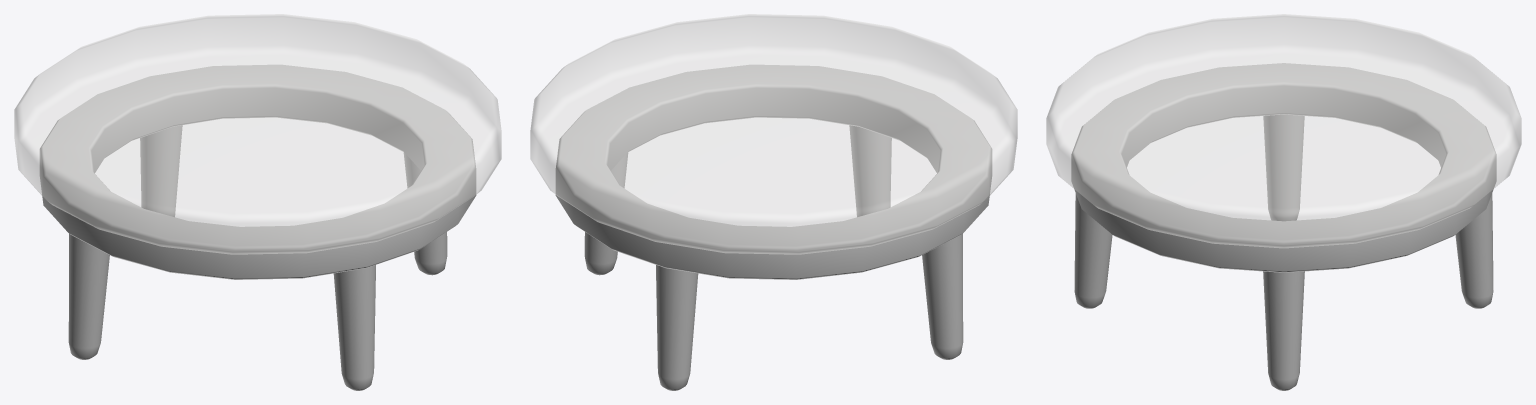
File: Table_24.fbx
3 views of the same model, side by side, from view 1: azimuth 30°, elevation 25°; view 2: azimuth 150°, elevation 25°; view 3: azimuth 270°, elevation 25° (orthographic). The views are drawn at different scales.
Parts seen in each view (by area): view 1: Table_24; view 2: Table_24; view 3: Table_24.
Part boxes in pixels (x1,y1,x2,y2): Table_24: (14,14,501,390); Table_24: (530,14,1017,390); Table_24: (1046,14,1521,390).
Size of the model in its own units: 84.14 by 37.99 by 84.14.
